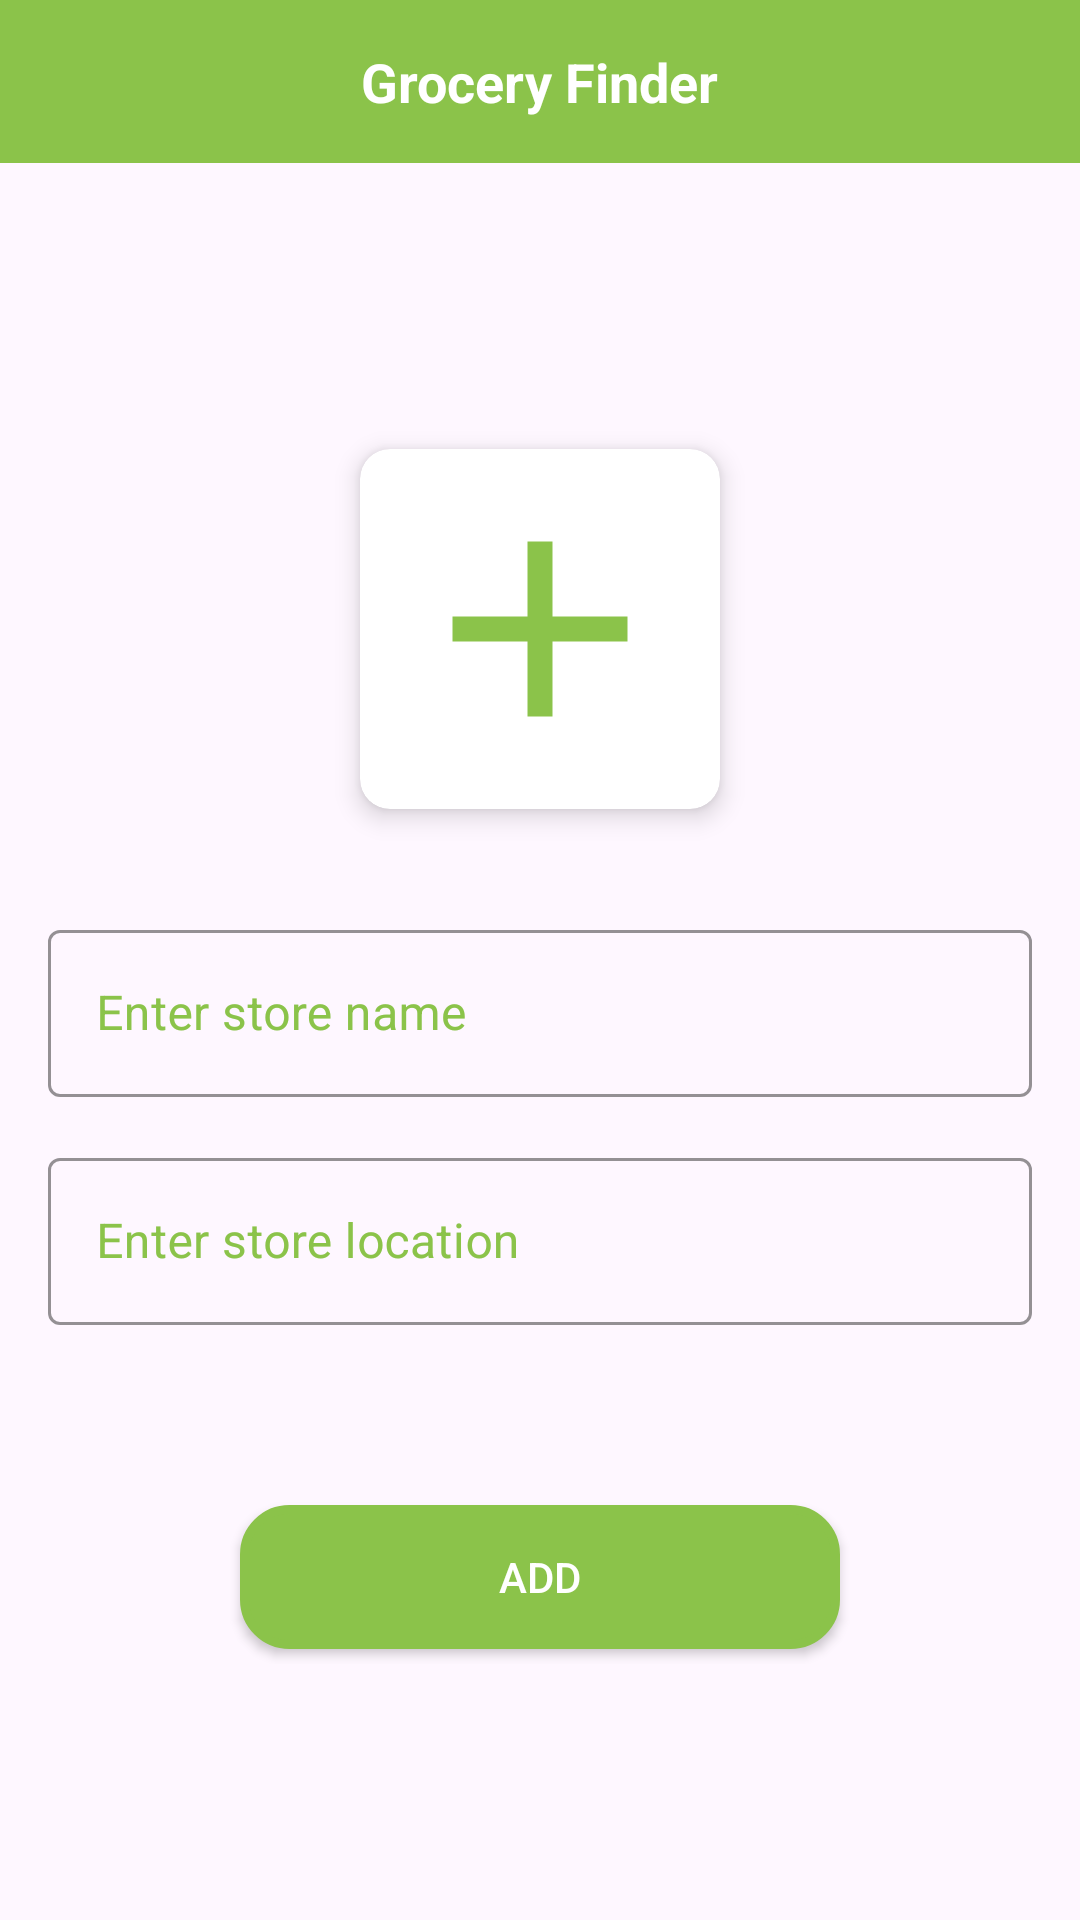

Where icons sit on this 1080 x 1920 app screen, as (x1, y1, x2, y2):
add: (360, 449, 720, 809)
